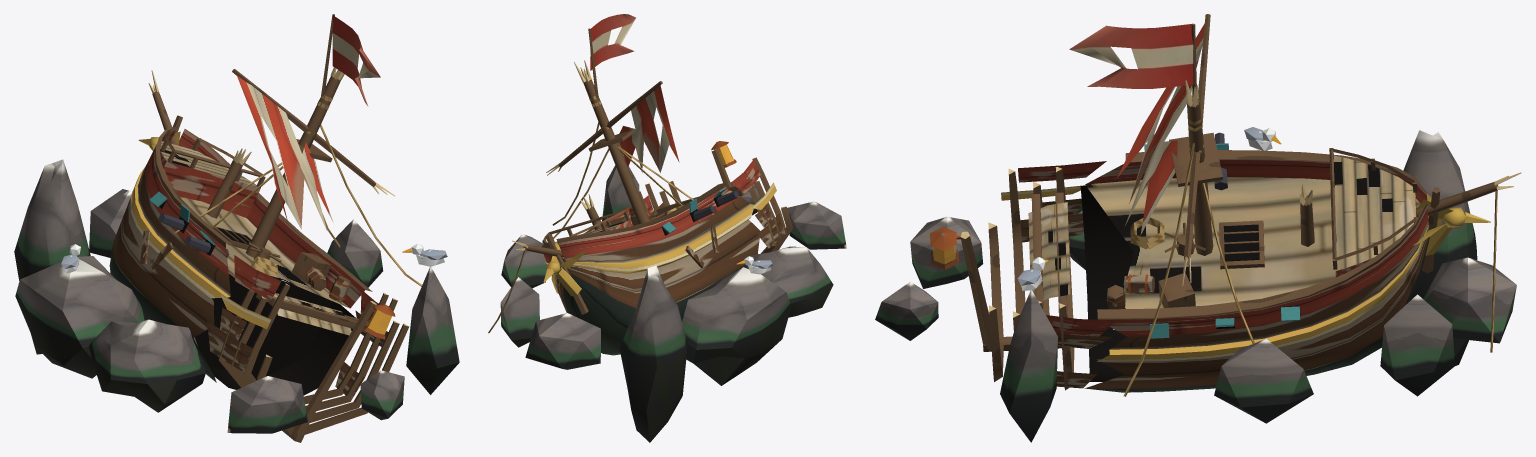
Rendered from sea_wreck.glb.
The picture shows the model from 3 angles, left to right: view 1: azimuth 30°, elevation 25°; view 2: azimuth 150°, elevation 25°; view 3: azimuth 270°, elevation 25°; orthographic projection. The views are drawn at different scales.
Visible parts, largest first — view 1: Hull, Reef, Rigging, Sail0_0, Flag; view 2: Reef, Hull, Rigging, Sail0_0, Flag; view 3: Hull, Reef, Rigging, Flag, Sail0_0.
Boxes of the visible parts, box(x1,y1,x2,y2) form: Hull: box(109, 115, 408, 442); Reef: box(14, 159, 459, 433); Rigging: box(148, 14, 422, 286); Sail0_0: box(237, 76, 333, 231); Flag: box(332, 15, 380, 106); Reef: box(500, 165, 846, 442); Hull: box(541, 141, 792, 355); Rigging: box(488, 28, 713, 333); Sail0_0: box(618, 85, 679, 172); Flag: box(590, 14, 635, 70); Hull: box(930, 132, 1490, 392); Reef: box(875, 127, 1516, 442); Rigging: box(1123, 14, 1521, 396); Flag: box(1069, 24, 1193, 88); Sail0_0: box(1117, 24, 1204, 234).
Size of the model in its own units: 2.73 by 2.94 by 3.85.
7 materials, 7 textured.
